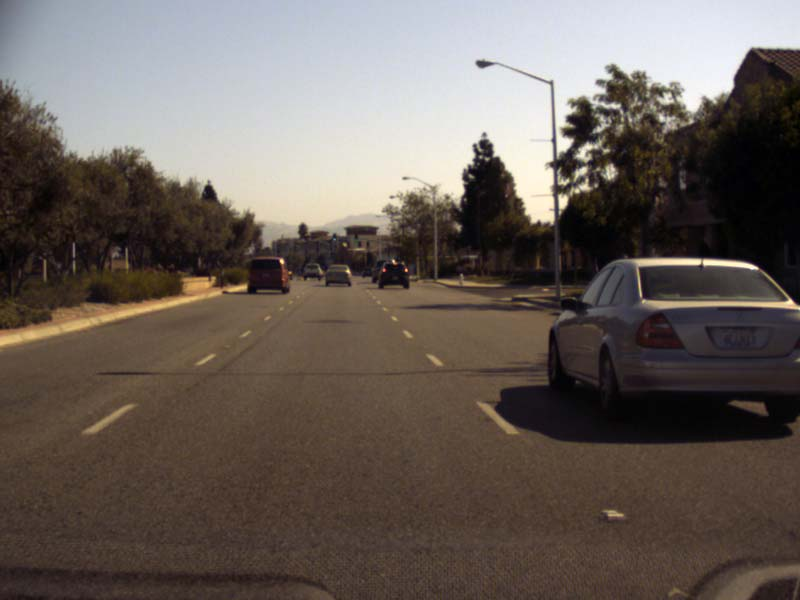Green: (332, 237, 336, 241), (354, 238, 357, 241)
